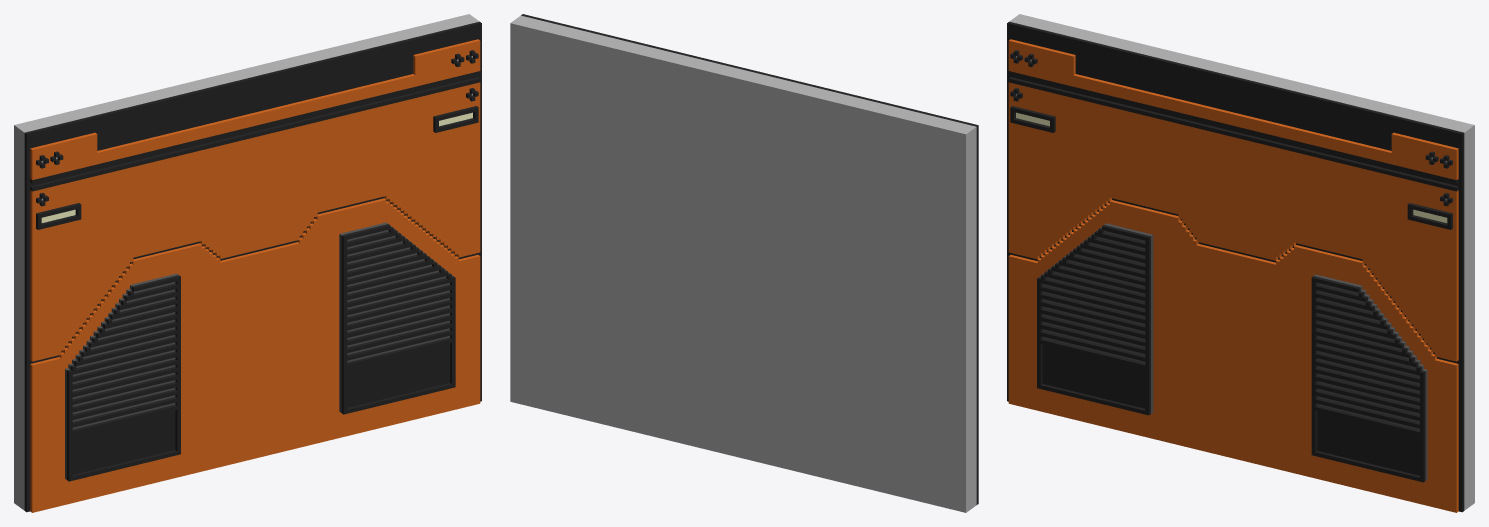
File: Wall_1.obj
The picture shows the model from 3 angles, left to right: view 1: azimuth 30°, elevation 25°; view 2: azimuth 150°, elevation 25°; view 3: azimuth 330°, elevation 25°; orthographic projection.
Parts seen in each view (by area): view 1: Wall_1; view 2: Wall_1; view 3: Wall_1.
Boxes of the visible parts, box(x1,y1,x2,y2) form: Wall_1: box(14, 14, 481, 512); Wall_1: box(510, 14, 978, 512); Wall_1: box(1007, 14, 1474, 512).
Size of the model in its own units: 126 by 100 by 9.
Materials: 1 (1 with a texture image).
